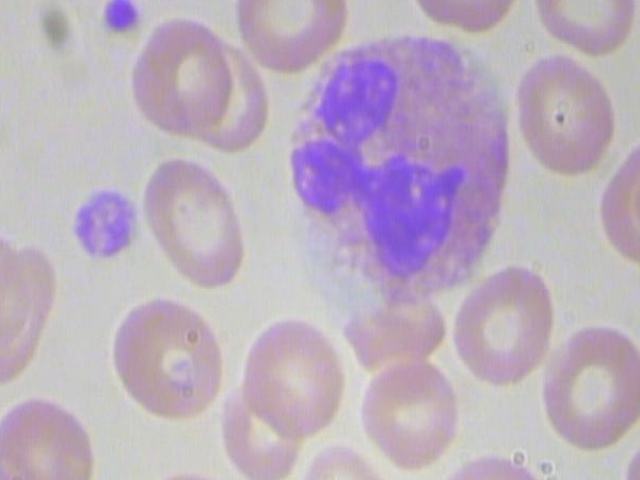Platelets: (69, 181, 143, 265), (95, 0, 146, 40)
RBC: (134, 147, 259, 291), (509, 45, 620, 193), (107, 297, 229, 423), (354, 340, 458, 477), (543, 319, 640, 456), (127, 11, 233, 136), (450, 261, 555, 387), (240, 310, 345, 434), (0, 388, 113, 480), (230, 0, 355, 81), (530, 0, 640, 57), (429, 439, 551, 480), (397, 0, 531, 31), (299, 439, 398, 480)
WBC: (271, 16, 525, 297)
